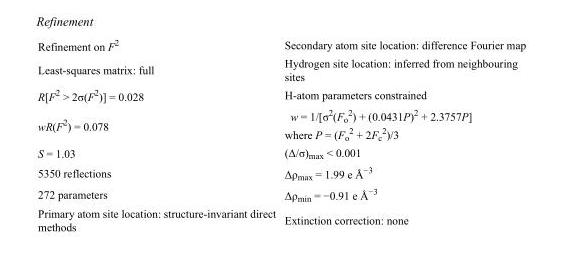table: (37, 36, 525, 232)
table column: (279, 36, 525, 232), (37, 36, 279, 232)
table row: (37, 104, 525, 143), (37, 54, 525, 84), (37, 204, 525, 232), (37, 162, 525, 183), (37, 183, 525, 204), (37, 84, 525, 104), (37, 143, 525, 162), (37, 36, 525, 54)
